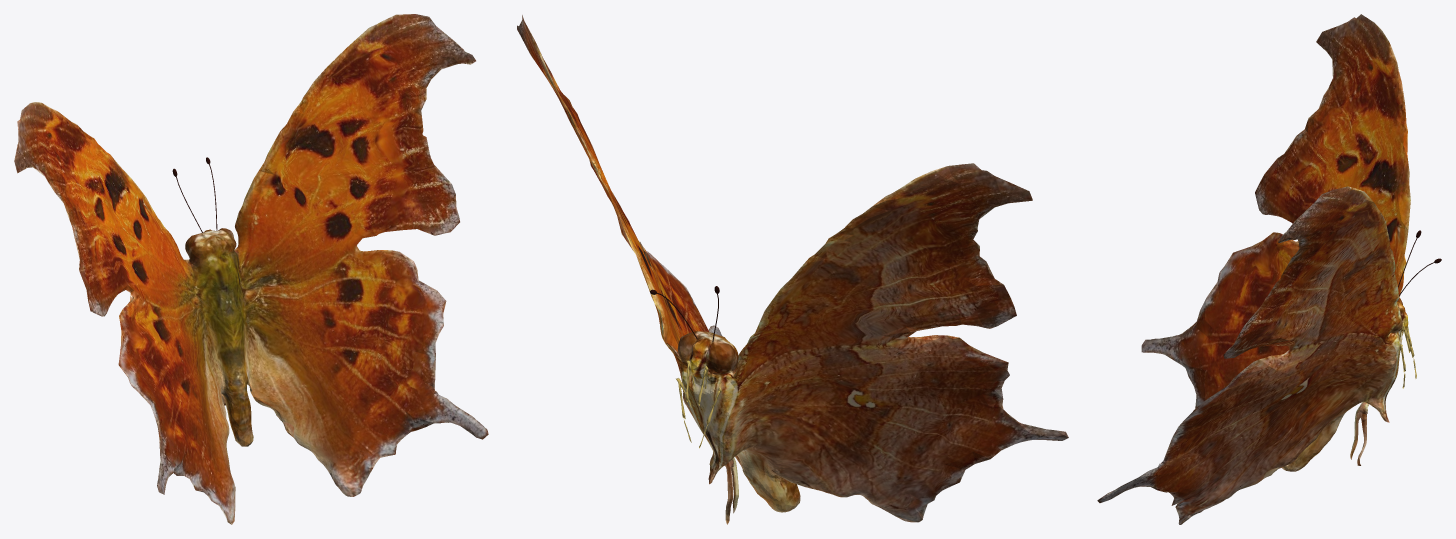
File: question_mark.obj
3 views of the same model, side by side, from view 1: azimuth 30°, elevation 25°; view 2: azimuth 150°, elevation 25°; view 3: azimuth 270°, elevation 25° (orthographic). The views are drawn at different scales.
Visible parts, largest first — view 1: mmGroup0; view 2: mmGroup0; view 3: mmGroup0.
Part boxes in pixels (x1=…): mmGroup0: x1=14, y1=14, x2=488, y2=524; mmGroup0: x1=517, y1=15, x2=1068, y2=524; mmGroup0: x1=1097, y1=14, x2=1410, y2=524.
Bounding box in the file's own units: 12.55 × 10.86 × 8.33.
Materials: 3 (1 with a texture image).
